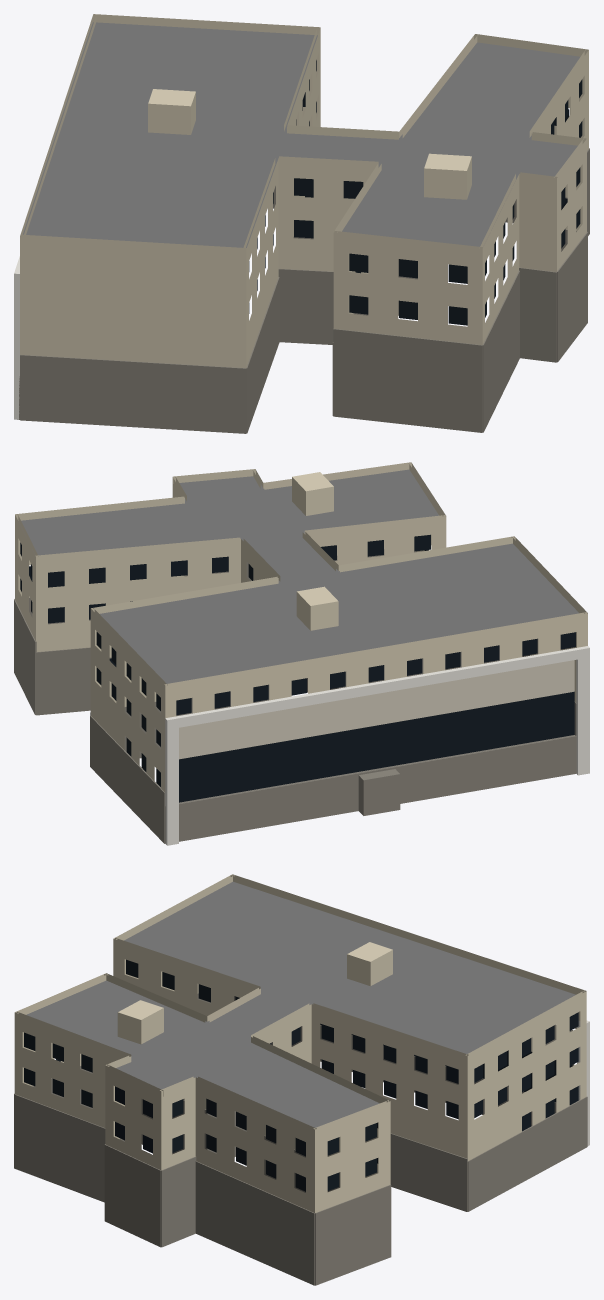
File: nakhimova19.lod.glb
3 views of the same model, one above another, from view 1: azimuth 30°, elevation 25°; view 2: azimuth 150°, elevation 25°; view 3: azimuth 270°, elevation 25° (orthographic). The views are drawn at different scales.
Parts seen in each view (by area): view 1: nakhimova19_wall, nakhimova19_roof, nakhimova19_stone, nakhimova19_glass, nakhimova19_wall3; view 2: nakhimova19_roof, nakhimova19_wall, nakhimova19_stone, nakhimova19_glass, nakhimova19_wall2, nakhimova19_wall3; view 3: nakhimova19_wall, nakhimova19_roof, nakhimova19_stone, nakhimova19_glass, nakhimova19_wall3.
Boxes of the visible parts, bbox=[...] form: nakhimova19_wall: bbox=[20, 14, 588, 368]; nakhimova19_roof: bbox=[23, 22, 580, 247]; nakhimova19_stone: bbox=[19, 148, 589, 433]; nakhimova19_glass: bbox=[249, 60, 582, 325]; nakhimova19_wall3: bbox=[14, 256, 19, 419]; nakhimova19_roof: bbox=[21, 469, 578, 683]; nakhimova19_wall: bbox=[15, 462, 587, 792]; nakhimova19_stone: bbox=[14, 549, 576, 843]; nakhimova19_glass: bbox=[20, 534, 575, 802]; nakhimova19_wall2: bbox=[179, 660, 574, 759]; nakhimova19_wall3: bbox=[165, 646, 589, 845]; nakhimova19_wall: bbox=[14, 874, 586, 1212]; nakhimova19_roof: bbox=[26, 881, 575, 1127]; nakhimova19_stone: bbox=[14, 993, 587, 1285]; nakhimova19_glass: bbox=[24, 959, 578, 1191]; nakhimova19_wall3: bbox=[577, 1020, 589, 1145].
Size of the model in its own units: 53.11 by 16.8 by 50.23.
